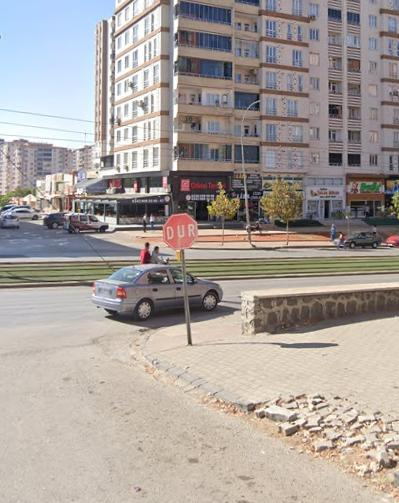stop: (164, 214, 200, 248)
